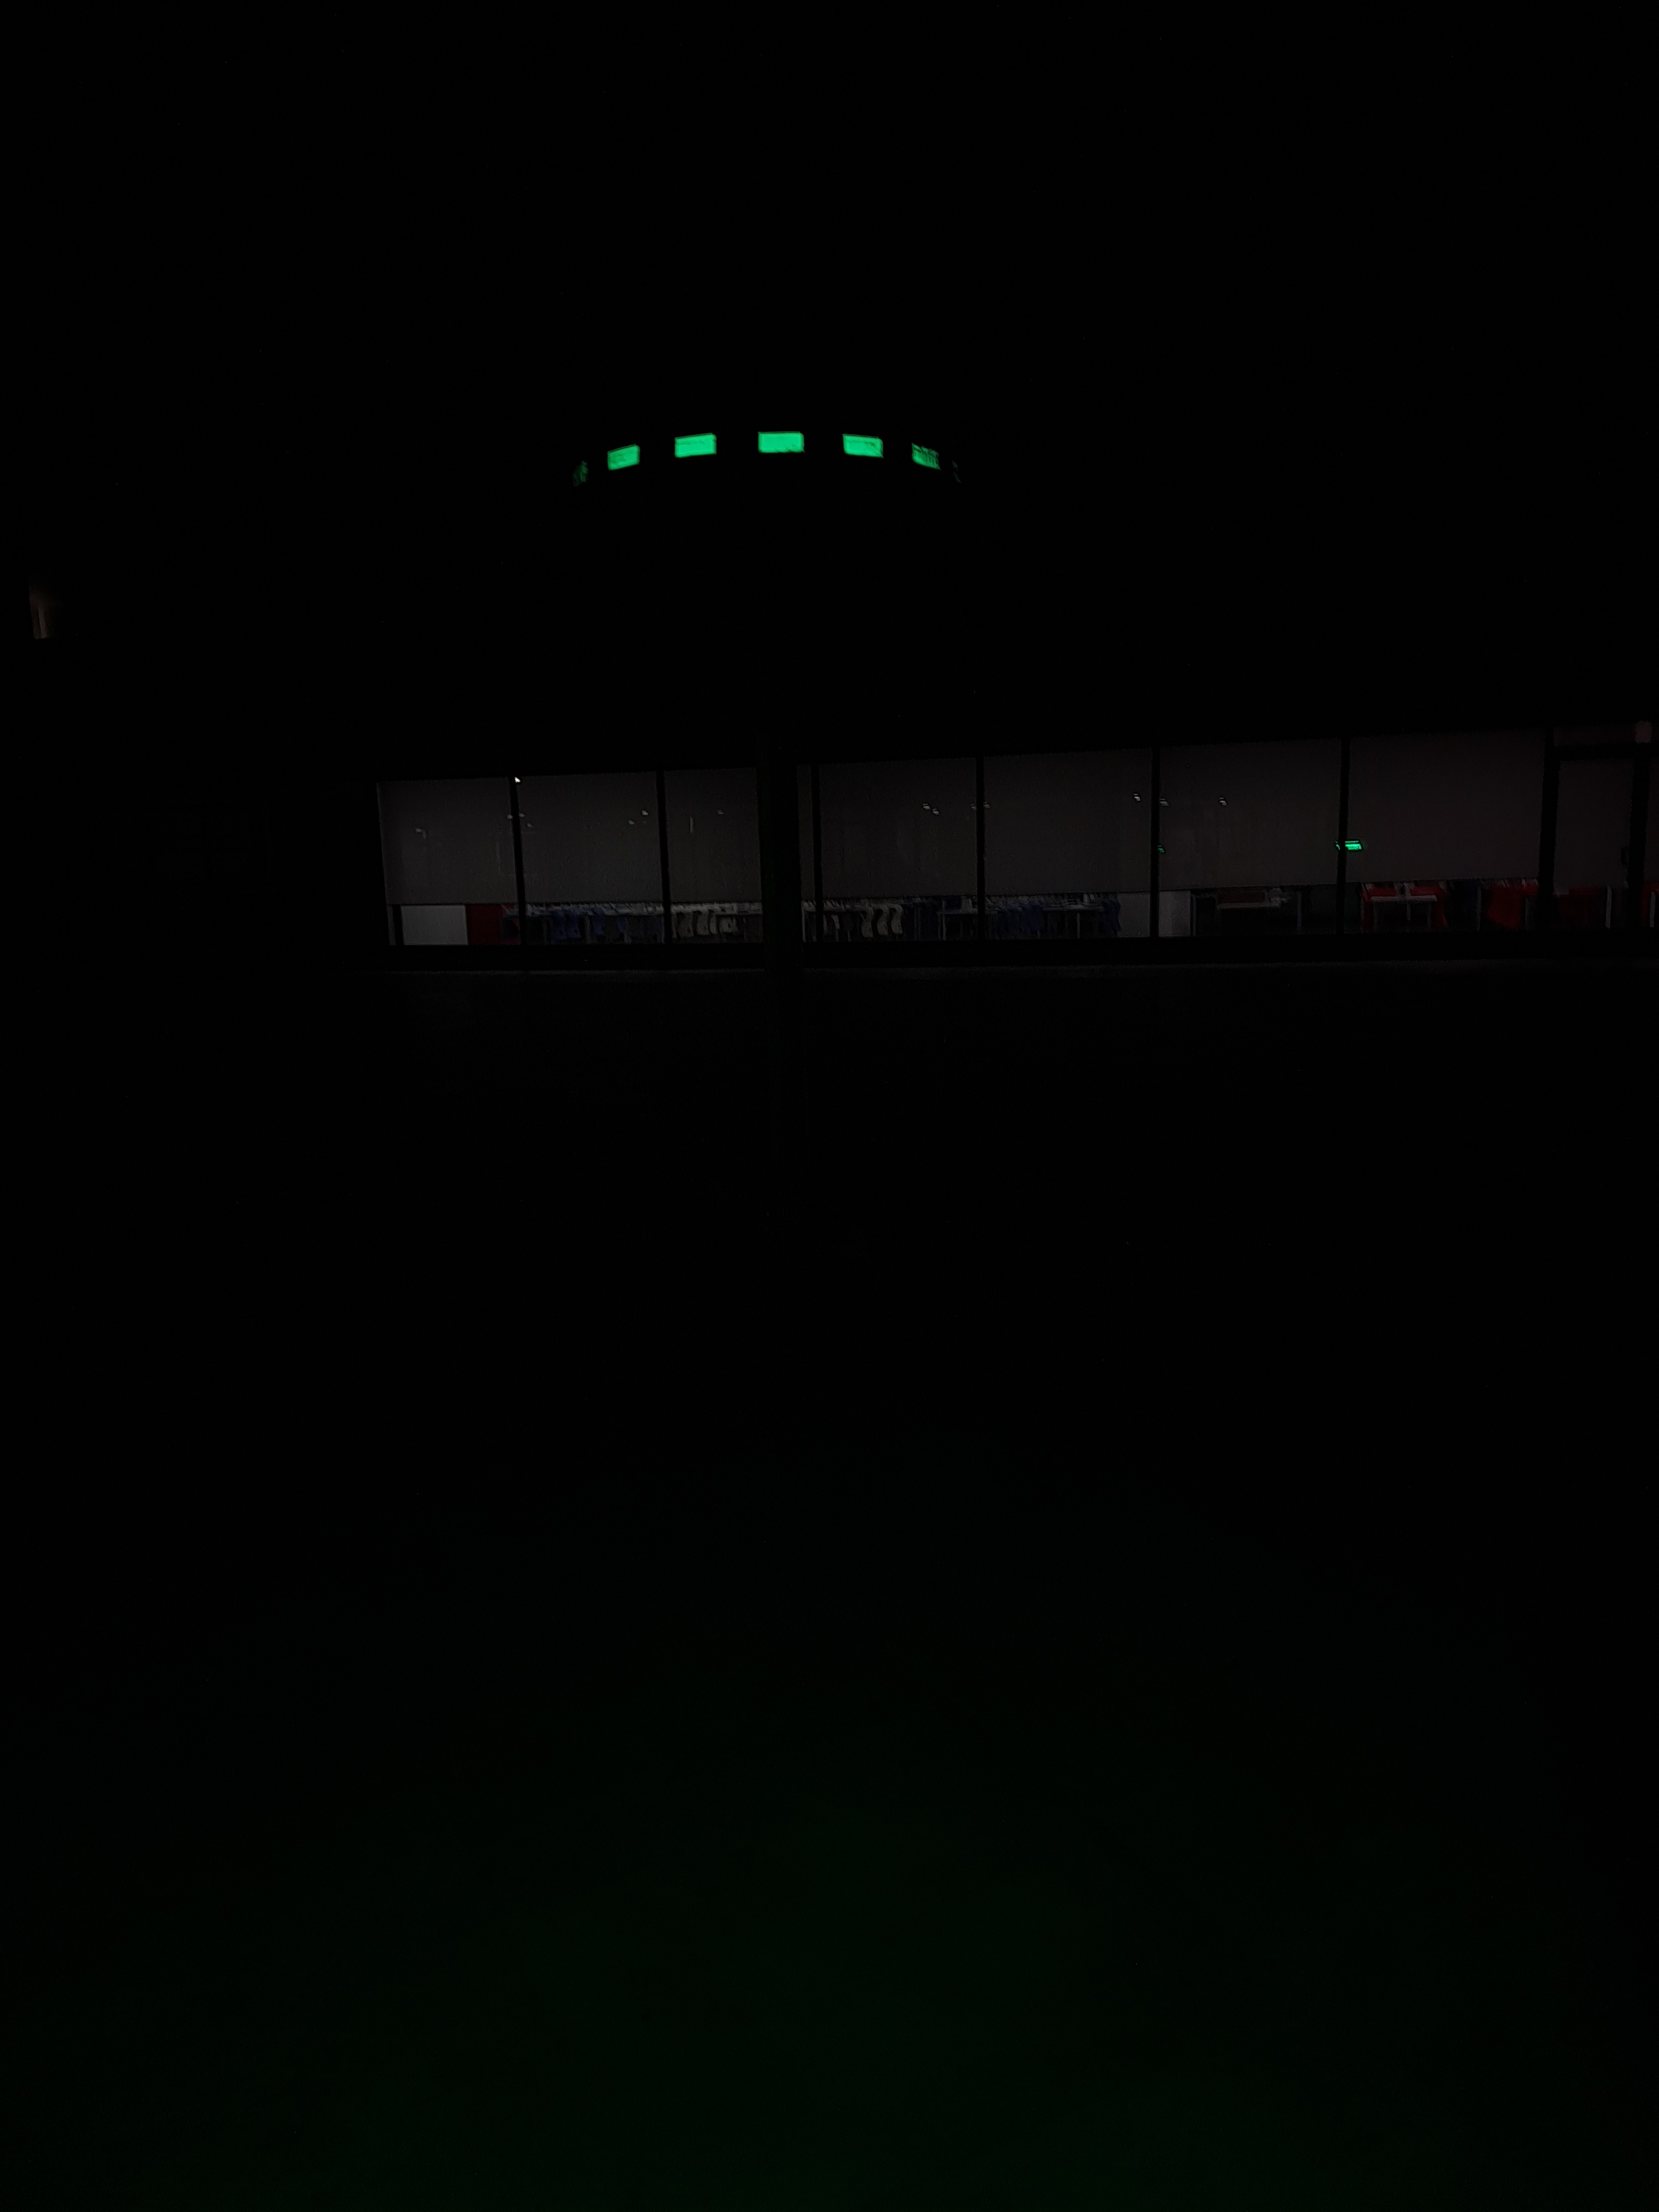hoop: (599, 434, 946, 479)
